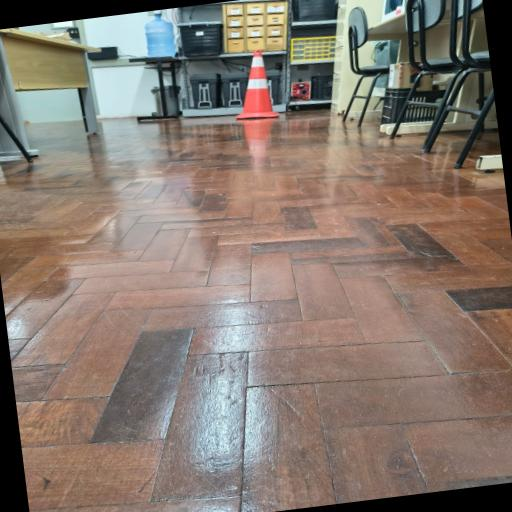cone: (228, 45, 284, 124)
